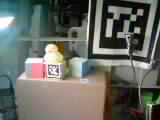duck: (34, 31, 65, 67)
